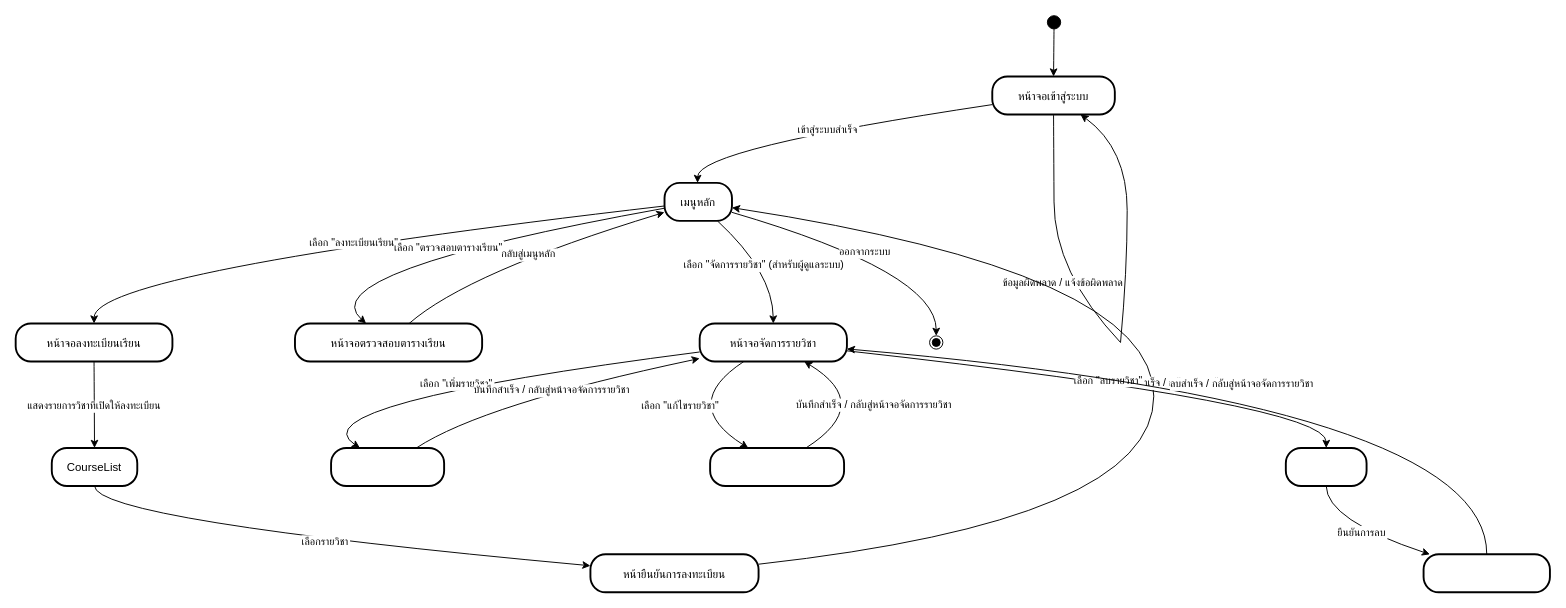
This 1566x608 diagram has some shape labels left out. Here are the shapes that lost their labels. From the top down, the box of each, then its label:
(330, 446, 445, 486): เพิ่มรายวิชาใหม่
(709, 446, 845, 486): แก้ไขข้อมูลรายวิชา
(1284, 446, 1367, 486): ลบรายวิชา
(1422, 553, 1550, 593): ConfirmDeletion
